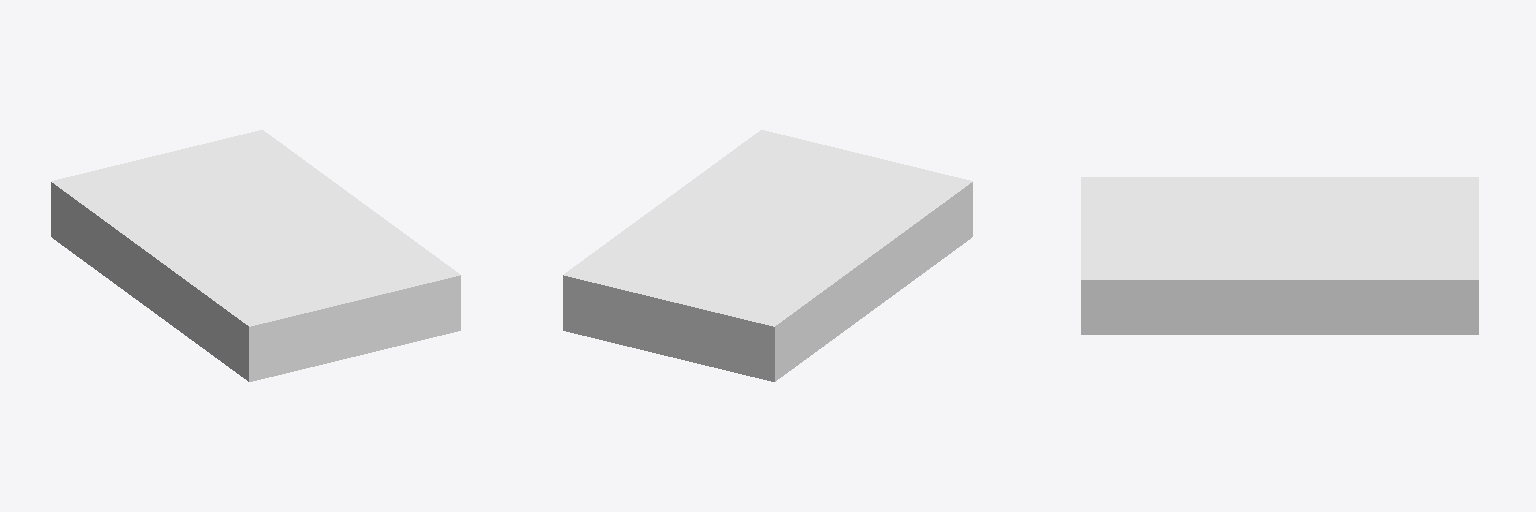
File: food-counter-food-green.obj
3 renders of one model, left to right at view 1: azimuth 30°, elevation 25°; view 2: azimuth 150°, elevation 25°; view 3: azimuth 270°, elevation 25°, orthographic.
Visible parts, largest first — view 1: object 1; view 2: object 1; view 3: object 1.
Boxes of the visible parts, box(x1,y1,x2,y2) form: object 1: box(51, 130, 460, 381); object 1: box(563, 130, 972, 381); object 1: box(1081, 177, 1478, 334).
Size of the model in its own units: 0.8 by 0.2 by 1.3.